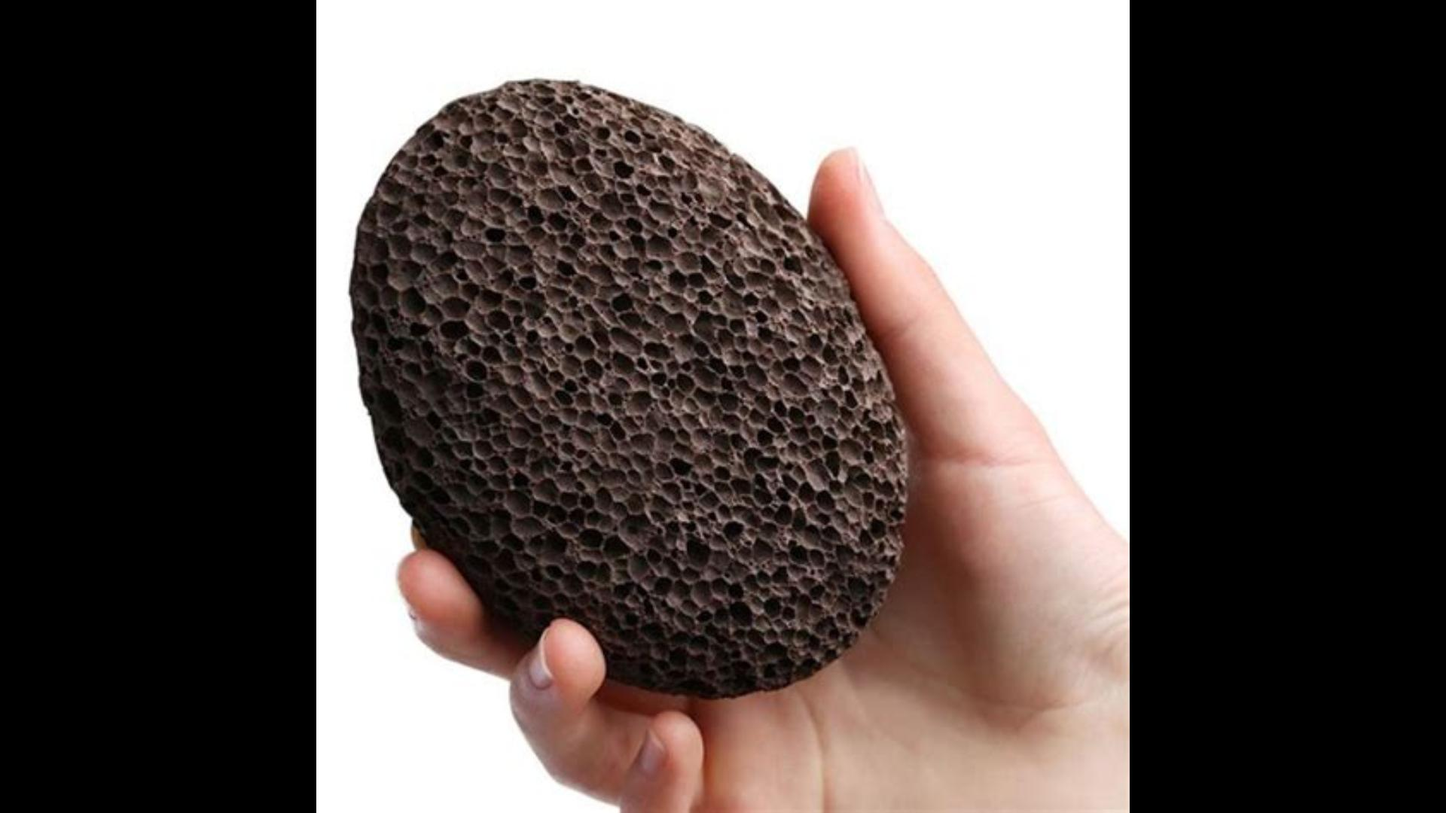rock: (352, 82, 905, 693)
